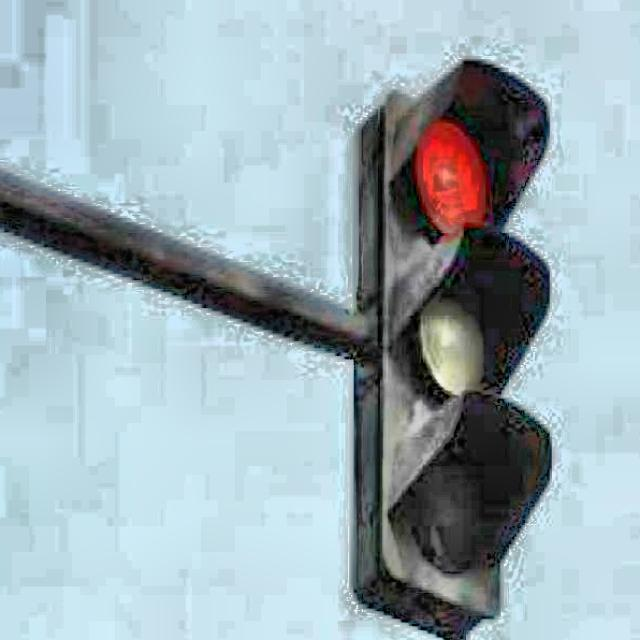red: (354, 59, 554, 615)
